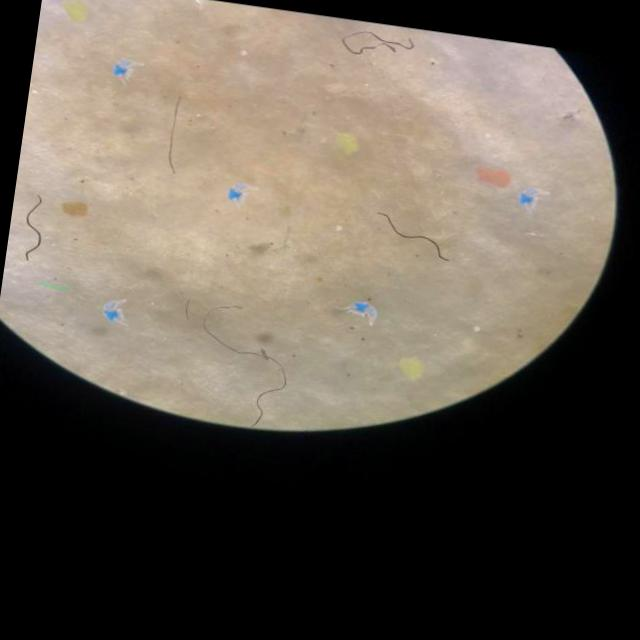fiber: (205, 324, 287, 427), (382, 214, 447, 261), (344, 32, 414, 55), (25, 197, 42, 262), (167, 99, 181, 173)
film: (351, 302, 377, 325), (104, 304, 123, 323), (519, 189, 538, 208), (113, 63, 130, 80), (230, 185, 246, 202)
fragment: (478, 170, 510, 189), (400, 358, 424, 381), (65, 3, 87, 23), (338, 134, 359, 154), (62, 202, 88, 217)
pellet: (240, 50, 247, 56), (474, 327, 480, 332), (485, 134, 490, 139), (338, 227, 342, 231)
